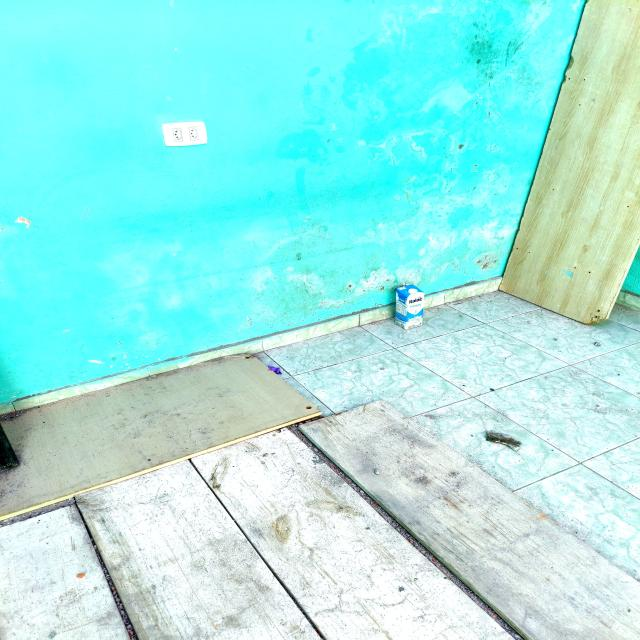Caixa de Leite: (395, 283, 426, 329)
